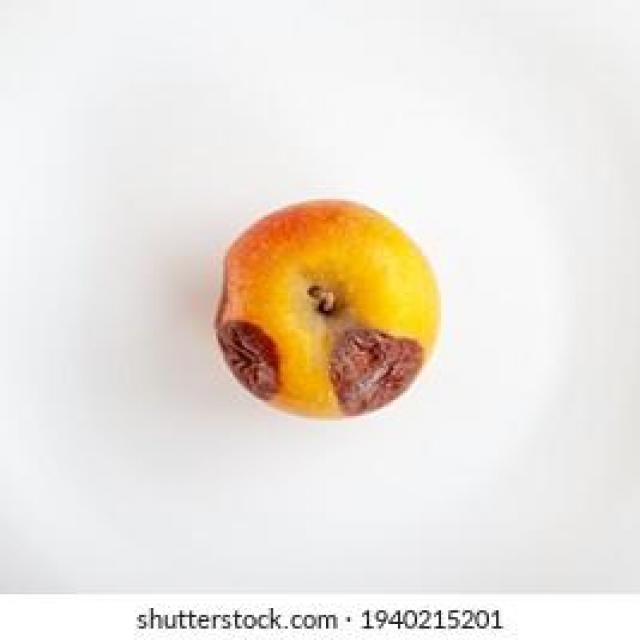Rotten: (208, 205, 442, 432)
